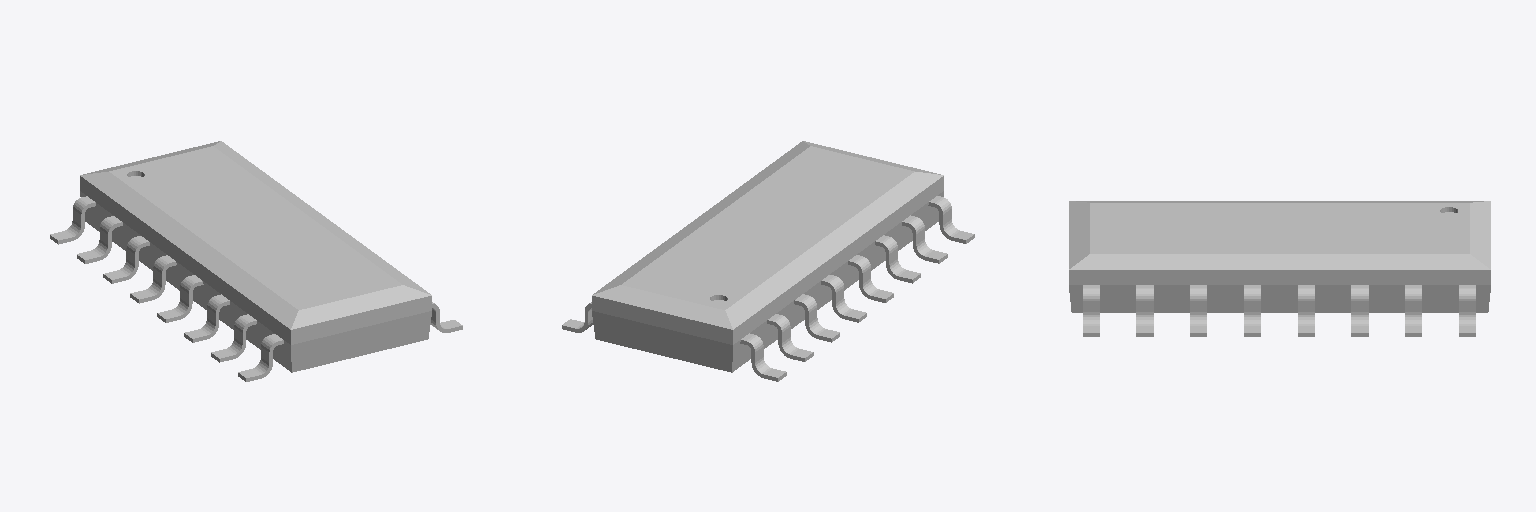
File: rectflag.obj
3 renders of one model, left to right at view 1: azimuth 30°, elevation 25°; view 2: azimuth 150°, elevation 25°; view 3: azimuth 270°, elevation 25°, orthographic.
Parts seen in each view (by area): view 1: Object.1; view 2: Object.1; view 3: Object.1.
Part boxes in pixels (left/top/right/bottom): Object.1: left=50, top=141, right=462, bottom=381; Object.1: left=562, top=141, right=974, bottom=381; Object.1: left=1069, top=201, right=1490, bottom=336.
Bounding box in the file's own units: 5.91 × 1.45 × 9.98.